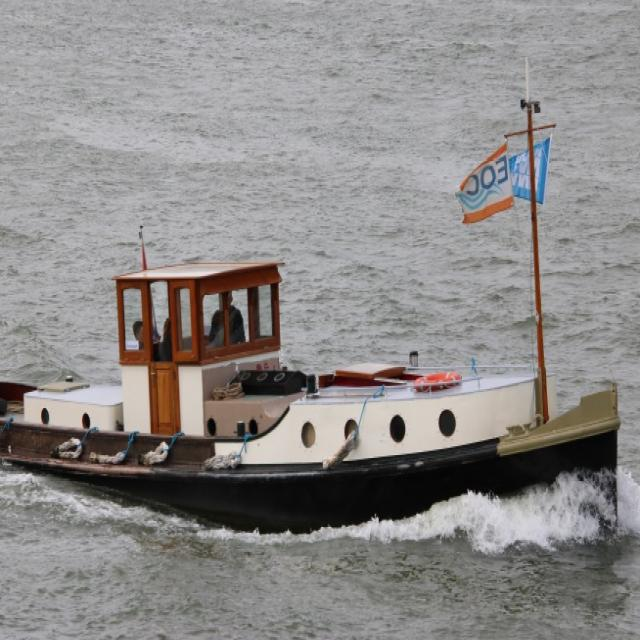tugboat: (1, 51, 625, 566)
